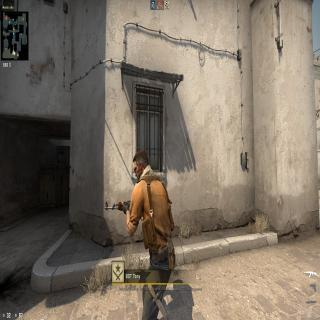T-Head: (132, 148, 149, 181)
